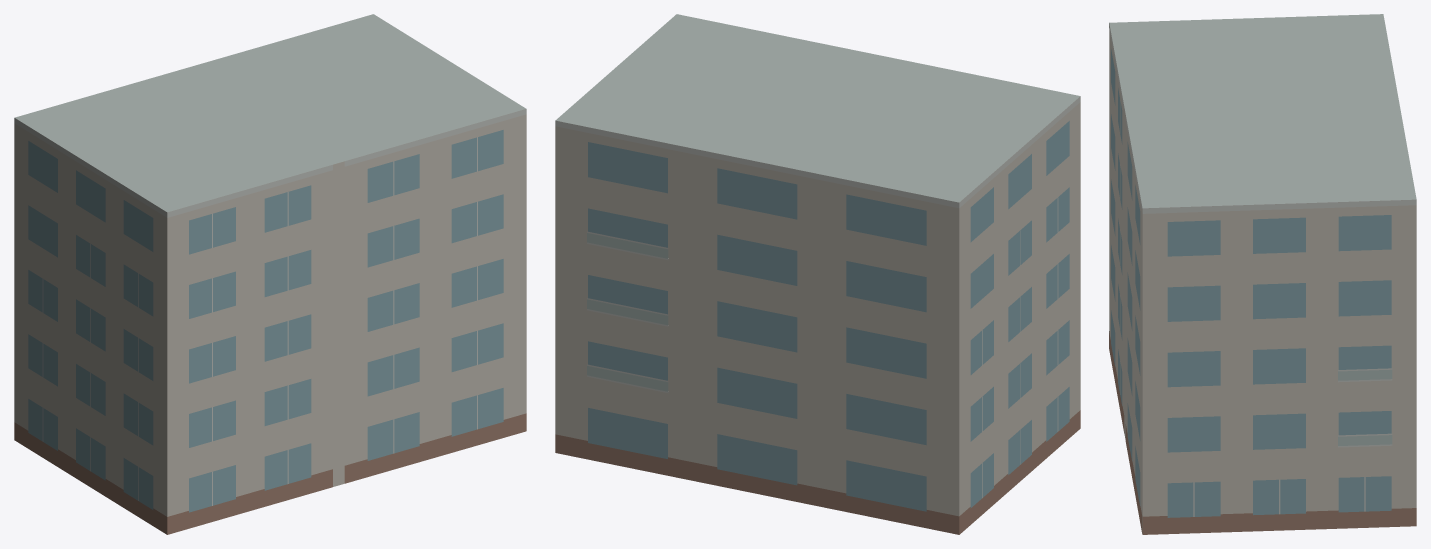
File: survey-upis-32757084.glb
3 renders of one model, left to right at view 1: azimuth 30°, elevation 25°; view 2: azimuth 150°, elevation 25°; view 3: azimuth 270°, elevation 25°, orthographic. The views are drawn at different scales.
Visible parts, largest first — view 1: survey-upis-32757084.tmp; view 2: survey-upis-32757084.tmp; view 3: survey-upis-32757084.tmp.
Boxes of the visible parts, left/top/right/bottom form: survey-upis-32757084.tmp: left=14, top=14, right=526, bottom=534; survey-upis-32757084.tmp: left=555, top=14, right=1080, bottom=534; survey-upis-32757084.tmp: left=1109, top=14, right=1416, bottom=534.
Size of the model in its own units: 18.19 by 14.25 by 12.17.
